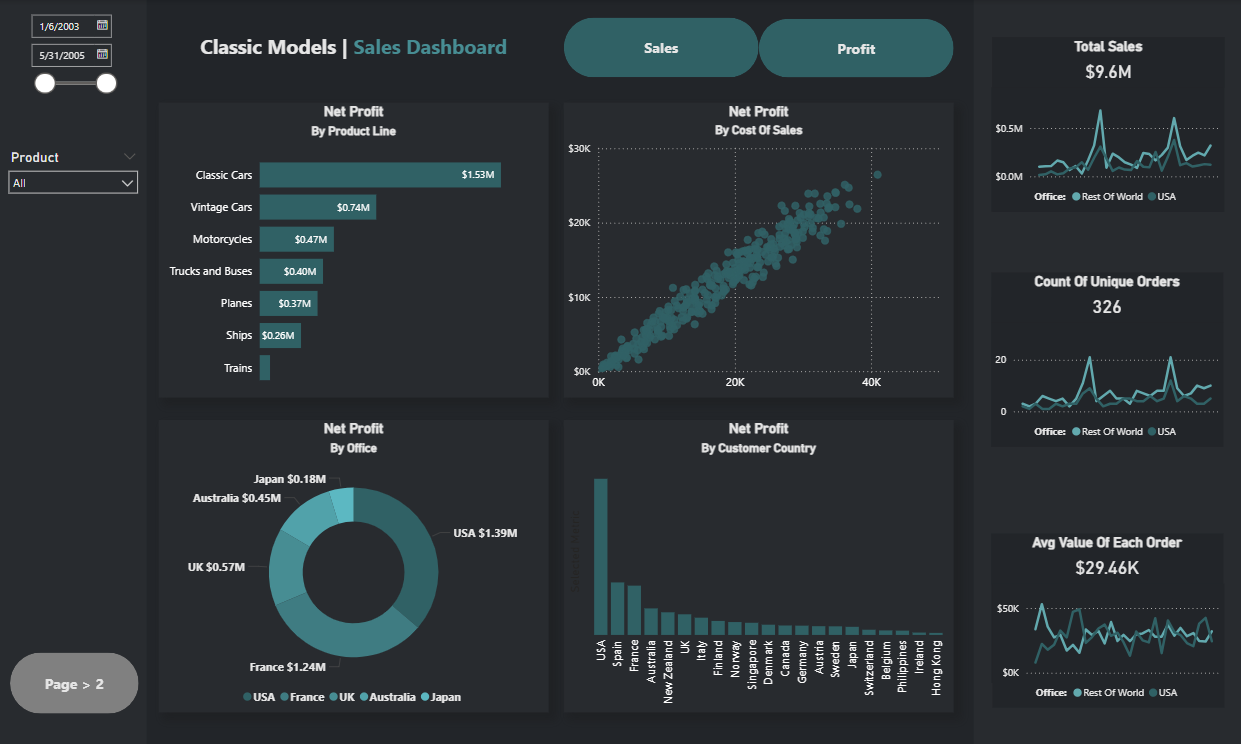

This screenshot's page, from the dashboard's own definition file:
{"tool":"powerbi","page":{"name":"Sales Overview - 1","canvas":[1500,900],"ordinal":0},"visuals":[{"type":"shape","box":[0,0,176.9,900.5],"z":0},{"type":"shape","box":[1175.5,0,324.8,900.5],"z":1000},{"type":"shape","box":[1198,45,279.8,210.7],"z":2000},{"type":"shape","box":[1196.4,359.4,279.8,180.1],"z":3000},{"type":"shape","box":[1196.4,643.2,279.8,180.1],"z":4000},{"type":"card","title":"Total Sales","fields":{"Values":["Sum(classicmodels sales_data_for_power_bi.sales_value)"]},"box":[1198,45,279.8,61.1],"z":5000},{"type":"card","title":"Count Of Unique Orders","fields":{"Values":["Count(classicmodels sales_data_for_power_bi.ordernumber)"]},"box":[1196.4,328,279.8,61.1],"z":6000},{"type":"card","title":"Avg Value Of Each Order","fields":{"Values":["classicmodels sales_data_for_power_bi.Avg_Sales_Value_Per_Order"]},"box":[1196.4,643.2,279.8,61.1],"z":7000},{"type":"lineChart","fields":{"Y":["Sum(classicmodels sales_data_for_power_bi.sales_value)"],"Category":["classicmodels sales_data_for_power_bi.orderdate.Variation.Date Hierarchy.Year","classicmodels sales_data_for_power_bi.orderdate.Variation.Date Hierarchy.Quarter","classicmodels sales_data_for_power_bi.orderdate.Variation.Date Hierarchy.Month"],"Series":["classicmodels sales_data_for_power_bi.Office Grouped"]},"box":[1196.4,106.1,279.8,149.6],"z":8000},{"type":"lineChart","fields":{"Category":["classicmodels sales_data_for_power_bi.orderdate.Variation.Date Hierarchy.Year","classicmodels sales_data_for_power_bi.orderdate.Variation.Date Hierarchy.Quarter","classicmodels sales_data_for_power_bi.orderdate.Variation.Date Hierarchy.Month"],"Series":["classicmodels sales_data_for_power_bi.Office Grouped"],"Y":["Count(classicmodels sales_data_for_power_bi.ordernumber)"]},"box":[1196.4,389.2,279.8,149.6],"z":9000},{"type":"lineChart","fields":{"Category":["classicmodels sales_data_for_power_bi.orderdate.Variation.Date Hierarchy.Year","classicmodels sales_data_for_power_bi.orderdate.Variation.Date Hierarchy.Quarter","classicmodels sales_data_for_power_bi.orderdate.Variation.Date Hierarchy.Month"],"Series":["classicmodels sales_data_for_power_bi.Office Grouped"],"Y":["classicmodels sales_data_for_power_bi.Avg_Sales_Value_Per_Order"]},"box":[1198,704.3,279.8,149.6],"z":10000},{"type":"barChart","fields":{"Y":["Table.Selected Metric"],"Category":["classicmodels sales_data_for_power_bi.productLine"]},"box":[191.5,123.7,470.5,355.9],"z":11000},{"type":"actionButton","box":[680.1,21.1,235.3,72.4],"z":12000},{"type":"actionButton","box":[915.4,22.6,235.3,70.9],"z":13000},{"type":"columnChart","fields":{"Y":["Table.Selected Metric"],"Category":["classicmodels sales_data_for_power_bi.customer_country"]},"box":[680.1,506.7,470.5,352.9],"z":15000},{"type":"donutChart","fields":{"Y":["Table.Selected Metric"],"Category":["classicmodels sales_data_for_power_bi.office_country"]},"box":[191.5,506.7,470.5,352.9],"z":16000},{"type":"scatterChart","fields":{"Y":["Table.Selected Metric"],"X":["Sum(classicmodels sales_data_for_power_bi.cost_of_sales)"],"Category":["classicmodels sales_data_for_power_bi.ordernumber"]},"box":[680.1,123.7,470.5,355.9],"z":17000},{"type":"textbox","box":[191.5,34.7,470.5,48.3],"z":18000},{"type":"actionButton","box":[12.1,787.2,155.3,73.9],"z":19000},{"type":"slicer","fields":{"Values":["classicmodels sales_data_for_power_bi.orderdate"]},"box":[25.6,7.5,123.7,126.7],"z":20000},{"type":"slicer","fields":{"Values":["classicmodels sales_data_for_power_bi.productName"]},"box":[0,174.9,176.4,69.4],"z":21000}]}

Visuals, with their boxes in screenshot pixels (x1, y1, x2, y2), scaled from the page's 1500x900 canvas onto the 1241x744 screenshot:
shape: bbox=[0, 0, 146, 743]
shape: bbox=[973, 0, 1240, 743]
shape: bbox=[991, 37, 1223, 211]
shape: bbox=[990, 297, 1221, 446]
shape: bbox=[990, 532, 1221, 681]
"Total Sales" card: bbox=[991, 37, 1223, 88]
"Count Of Unique Orders" card: bbox=[990, 271, 1221, 322]
"Avg Value Of Each Order" card: bbox=[990, 532, 1221, 582]
lineChart - Sum(classicmodels sales_data_for_power_bi.sales_value) x classicmodels sales_data_for_power_bi.orderdate.Variation.Date Hierarchy.Year: bbox=[990, 88, 1221, 211]
lineChart - classicmodels sales_data_for_power_bi.orderdate.Variation.Date Hierarchy.Year x classicmodels sales_data_for_power_bi.orderdate.Variation.Date Hierarchy.Quarter: bbox=[990, 322, 1221, 445]
lineChart - classicmodels sales_data_for_power_bi.orderdate.Variation.Date Hierarchy.Year x classicmodels sales_data_for_power_bi.orderdate.Variation.Date Hierarchy.Quarter: bbox=[991, 582, 1223, 706]
barChart - Table.Selected Metric x classicmodels sales_data_for_power_bi.productLine: bbox=[158, 102, 548, 396]
actionButton: bbox=[563, 17, 757, 77]
actionButton: bbox=[757, 19, 952, 77]
columnChart - Table.Selected Metric x classicmodels sales_data_for_power_bi.customer_country: bbox=[563, 419, 952, 711]
donutChart - Table.Selected Metric x classicmodels sales_data_for_power_bi.office_country: bbox=[158, 419, 548, 711]
scatterChart - Table.Selected Metric x Sum(classicmodels sales_data_for_power_bi.cost_of_sales): bbox=[563, 102, 952, 396]
textbox: bbox=[158, 29, 548, 69]
actionButton: bbox=[10, 651, 138, 712]
slicer - classicmodels sales_data_for_power_bi.orderdate: bbox=[21, 6, 124, 111]
slicer - classicmodels sales_data_for_power_bi.productName: bbox=[0, 145, 146, 202]
